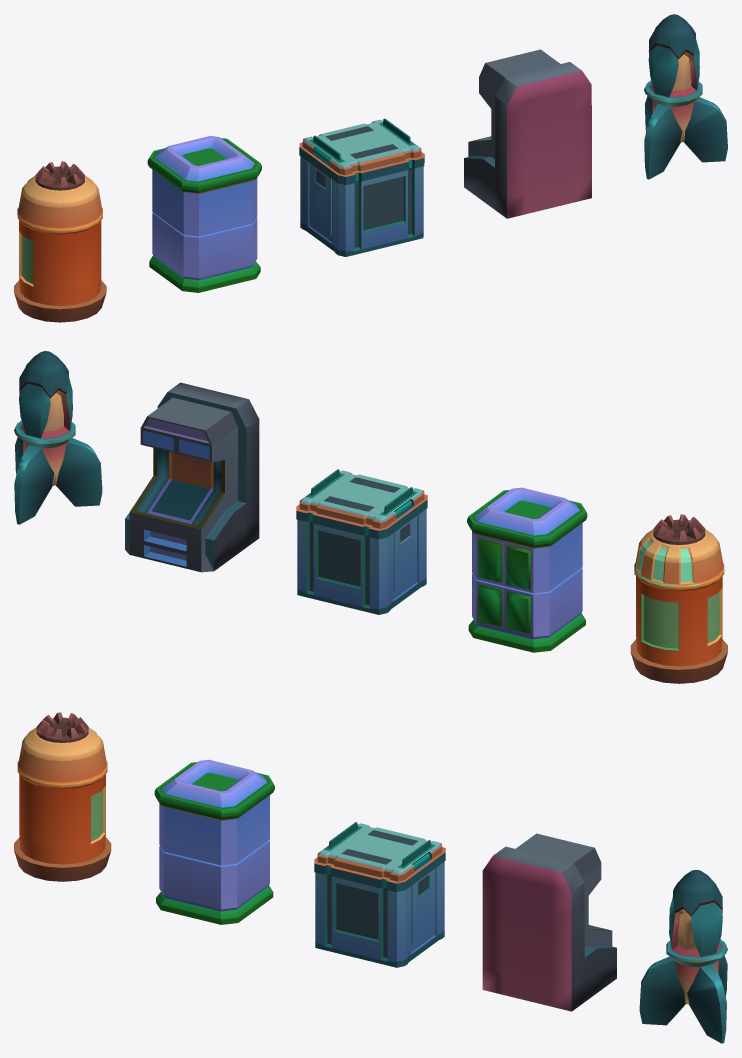
File: End_t1_a5.fbx
3 renders of one model, top to bottom at view 1: azimuth 30°, elevation 25°; view 2: azimuth 150°, elevation 25°; view 3: azimuth 330°, elevation 25°, orthographic. The views are drawn at different scales.
Visible parts, largest first — view 1: End_t1_a5_v4, End_t1_a5_v3, End_t1_a5_v2, End_t1_a5_v1, End_t1_a5_v5; view 2: End_t1_a5_v4, End_t1_a5_v3, End_t1_a5_v2, End_t1_a5_v1, End_t1_a5_v5; view 3: End_t1_a5_v4, End_t1_a5_v3, End_t1_a5_v2, End_t1_a5_v1, End_t1_a5_v5.
Boxes of the visible parts, <box> form: End_t1_a5_v4: <box>464,49,591,218</box>; End_t1_a5_v3: <box>147,136,261,292</box>; End_t1_a5_v2: <box>299,118,424,256</box>; End_t1_a5_v1: <box>14,161,106,322</box>; End_t1_a5_v5: <box>644,14,727,179</box>; End_t1_a5_v4: <box>125,382,259,572</box>; End_t1_a5_v3: <box>467,487,587,652</box>; End_t1_a5_v2: <box>296,469,427,614</box>; End_t1_a5_v1: <box>630,514,727,683</box>; End_t1_a5_v5: <box>14,351,102,524</box>; End_t1_a5_v4: <box>482,833,616,1011</box>; End_t1_a5_v3: <box>154,759,274,924</box>; End_t1_a5_v2: <box>314,822,445,967</box>; End_t1_a5_v1: <box>14,712,111,881</box>; End_t1_a5_v5: <box>639,870,727,1043</box>.
Size of the model in its own units: 26.69 by 5.34 by 3.15.
